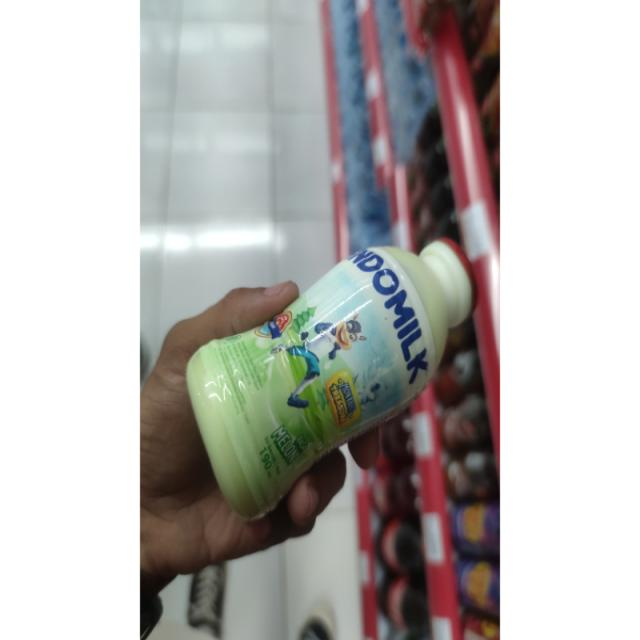botol: (160, 197, 501, 538)
